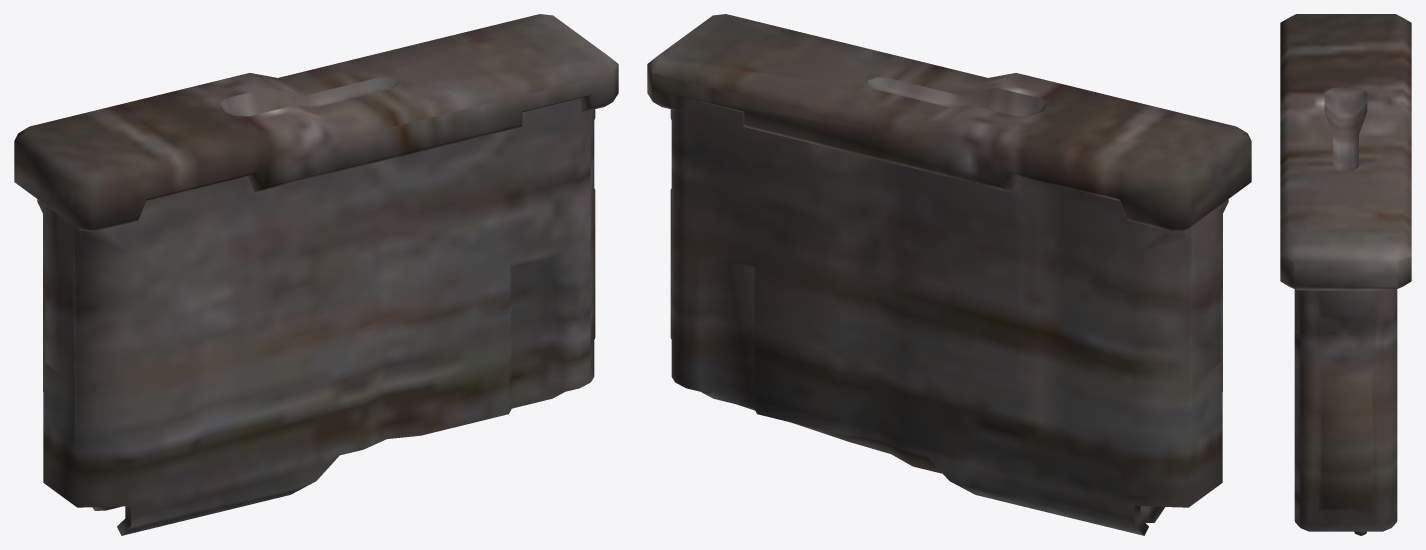
Rendered from HeavyWeapons_Vladof_Magazine_1.obj.
The picture shows the model from 3 angles, left to right: view 1: azimuth 30°, elevation 25°; view 2: azimuth 150°, elevation 25°; view 3: azimuth 270°, elevation 25°; orthographic projection. The views are drawn at different scales.
Visible parts, largest first — view 1: Mag_1_base_SK_HW_VLA.337; view 2: Mag_1_base_SK_HW_VLA.337, Mag_1_bullet_4_SK_HW_VLA.341; view 3: Mag_1_base_SK_HW_VLA.337.
Part boxes in pixels (x1=…): Mag_1_base_SK_HW_VLA.337: x1=14, y1=14, x2=618, y2=535; Mag_1_base_SK_HW_VLA.337: x1=647, y1=14, x2=1251, y2=535; Mag_1_bullet_4_SK_HW_VLA.341: x1=739, y1=405, x2=1164, y2=522; Mag_1_base_SK_HW_VLA.337: x1=1280, y1=14, x2=1411, y2=531.
Bounding box in the file's own units: 26.3 × 17.59 × 6.27.
